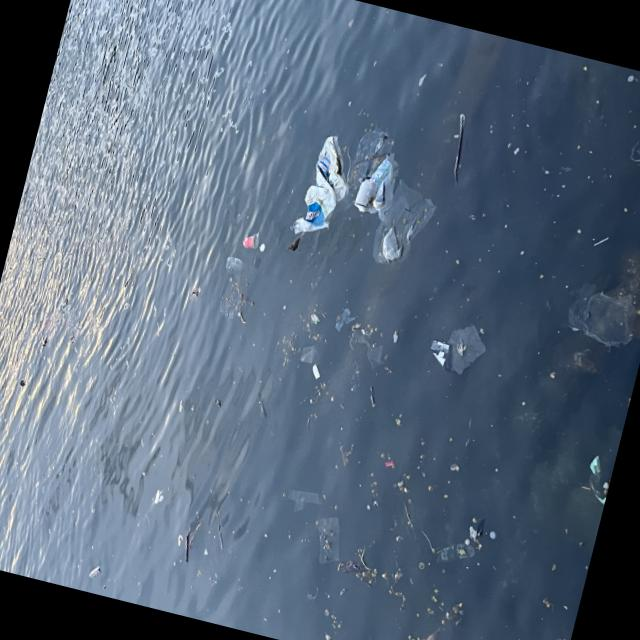foam: (312, 363, 324, 380)
plastic bag: (285, 137, 349, 234), (358, 186, 436, 258)
